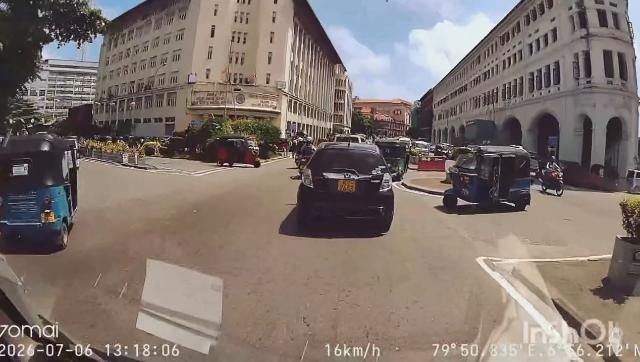number plate: (329, 175, 367, 199)
